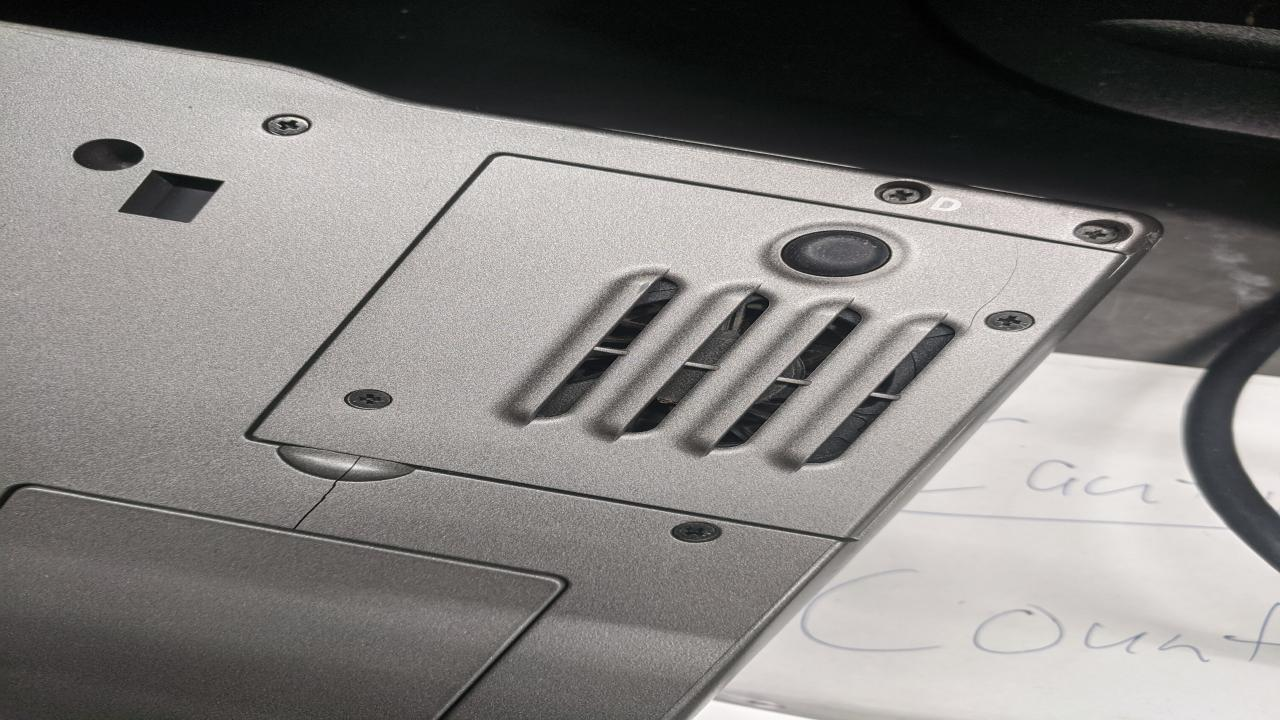CRS: (876, 179, 939, 207), (669, 520, 726, 546), (340, 388, 397, 412), (264, 113, 315, 139), (987, 310, 1042, 334), (1076, 224, 1128, 246)
